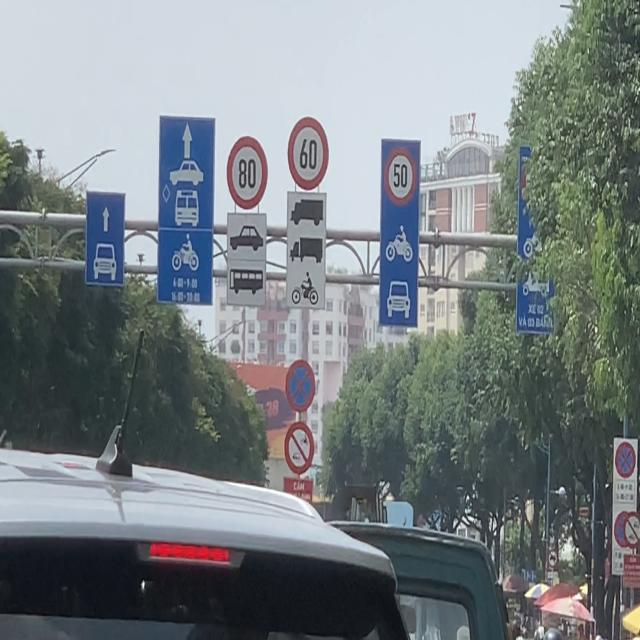Cam con lai: (284, 421, 314, 477), (622, 509, 640, 549)
Cam dung va do: (284, 355, 316, 416), (614, 439, 637, 482)
Toc do toi da: (287, 112, 331, 192), (227, 130, 270, 206), (384, 145, 416, 210)
